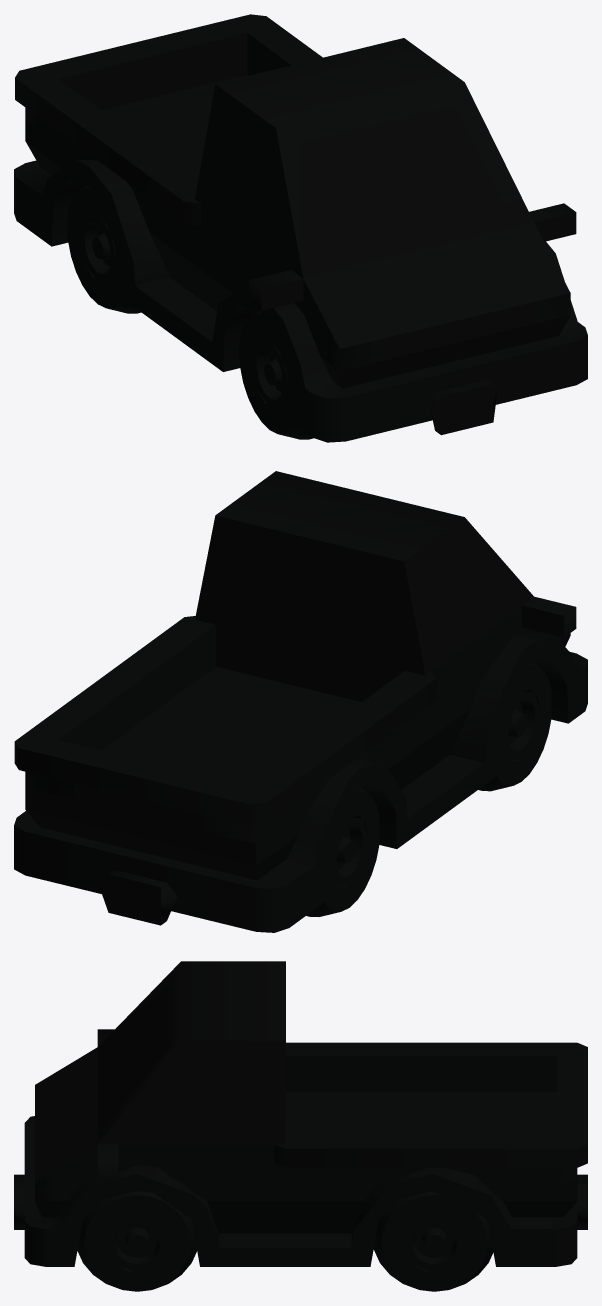
The model's file is truck-flat.glb.
3 views of the same model, one above another, from view 1: azimuth 30°, elevation 25°; view 2: azimuth 150°, elevation 25°; view 3: azimuth 270°, elevation 25° (orthographic). The views are drawn at different scales.
Parts seen in each view (by area): view 1: body, wheel-back-right, wheel-front-right; view 2: body, wheel-front-right, wheel-back-right; view 3: body, wheel-front-left, wheel-back-left.
Part boxes in pixels (x1,y1,x2,y2): body: (14,14,587,442); wheel-back-right: (67,184,141,313); wheel-front-right: (239,310,313,439); body: (14,471,587,932); wheel-front-right: (478,662,551,791); wheel-back-right: (306,787,379,916); body: (14,961,587,1266); wheel-front-left: (77,1191,196,1291); wheel-back-left: (373,1191,493,1291).
Bounding box in the file's own units: 1.5 × 1.3 × 2.75.
1 material, 1 textured.
